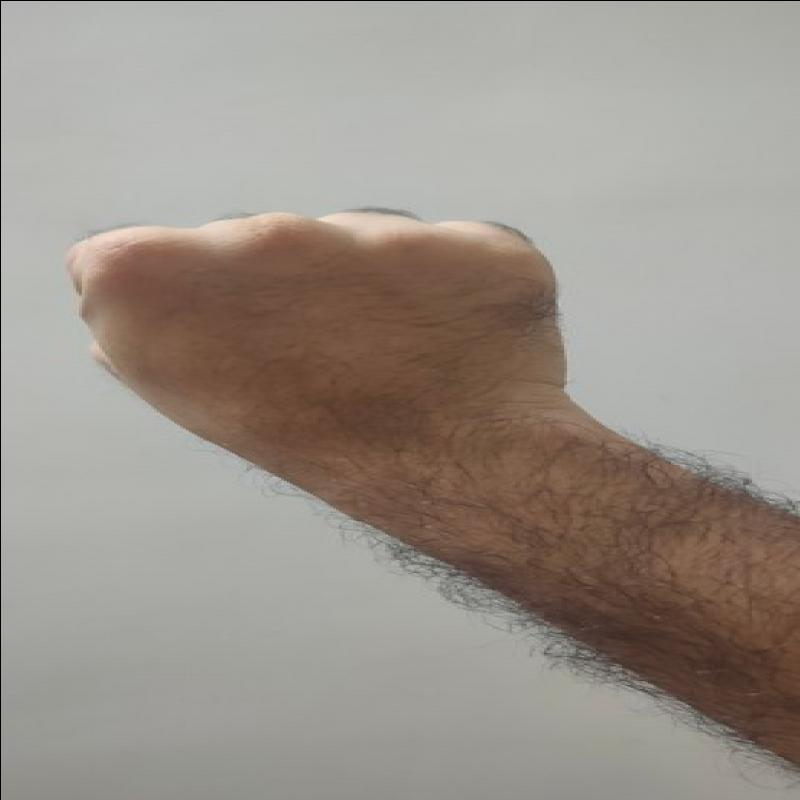Mushti: (41, 190, 606, 446)
